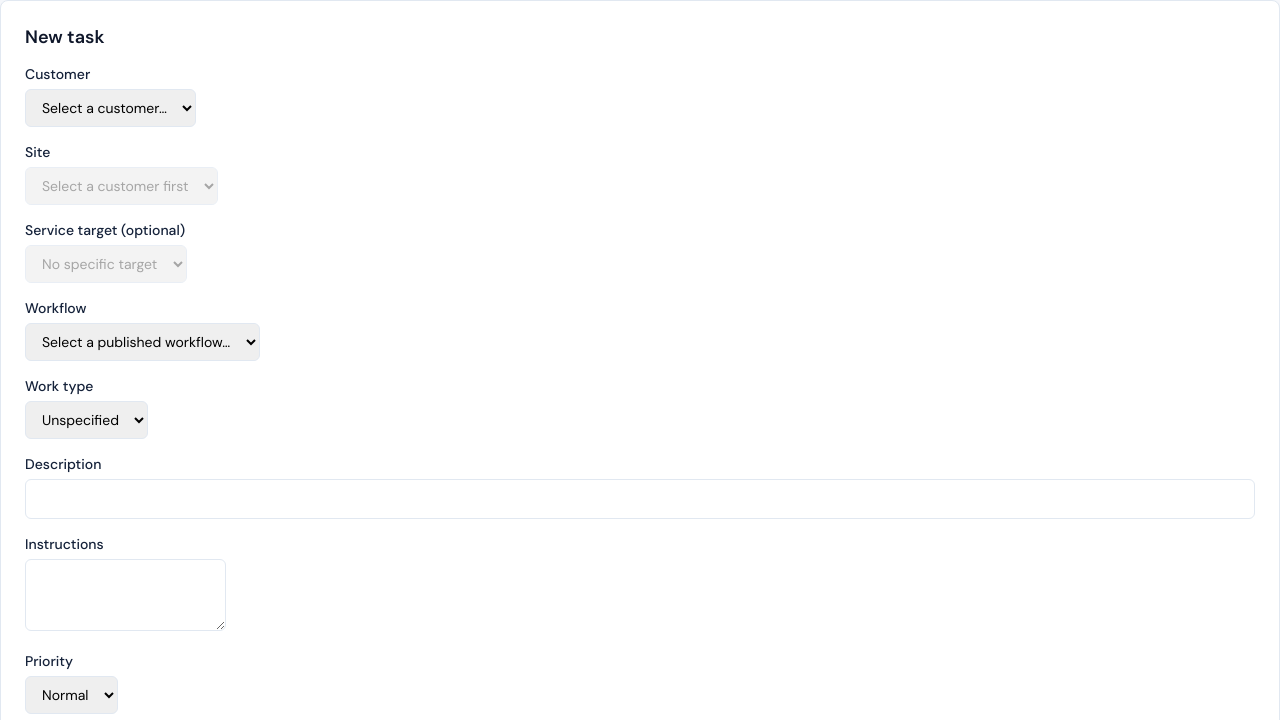
Test: CreateTaskForm › disables the site select until a customer is chosen
The width and height of the screenshot is (1280, 720).
Expected: the dropdown labelled "Site" is disabled, x1=25 y1=167 x2=218 y2=205
Select "Al Noor Facilities" in the dropdown labelled "Customer": (110, 108) x1=25 y1=89 x2=196 y2=127
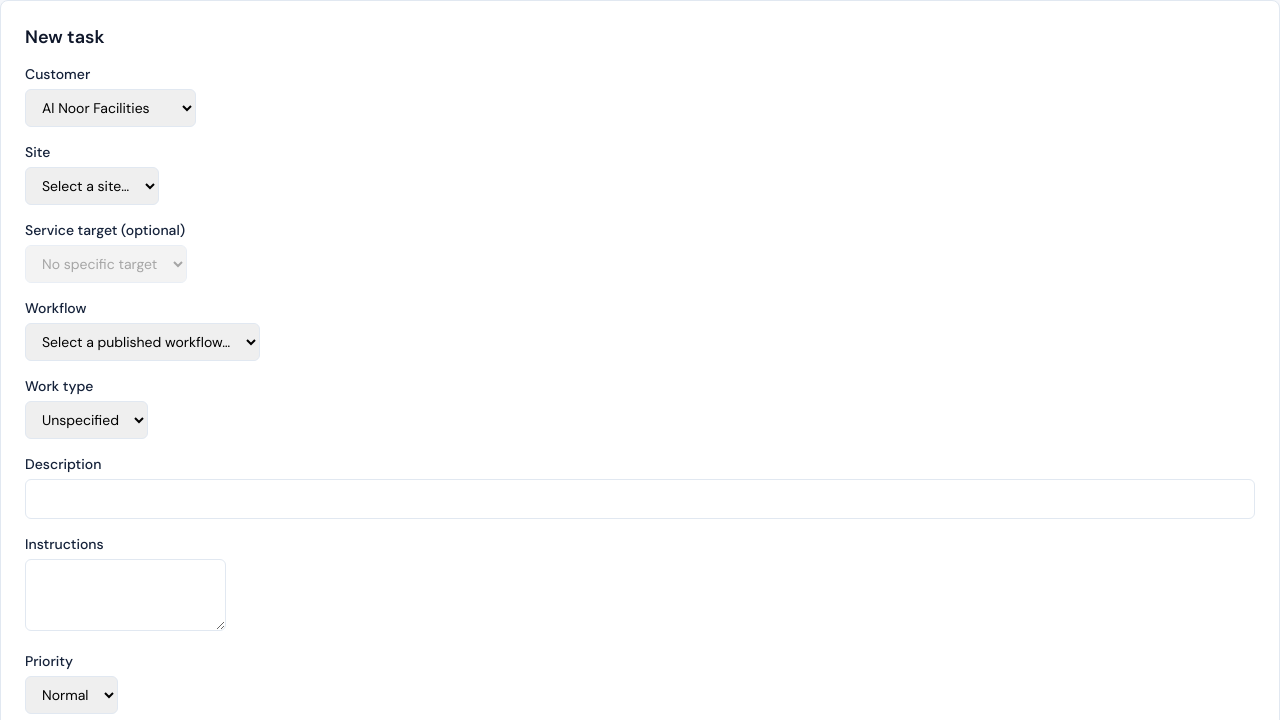
Result: the dropdown labelled "Site" is enabled at x1=25 y1=167 x2=159 y2=205
